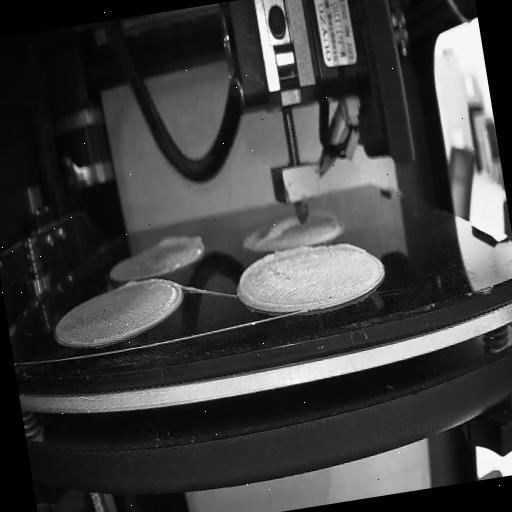over_extrusion: (234, 245, 320, 318), (252, 214, 304, 246), (156, 230, 209, 254), (331, 234, 369, 260), (115, 276, 140, 292)
